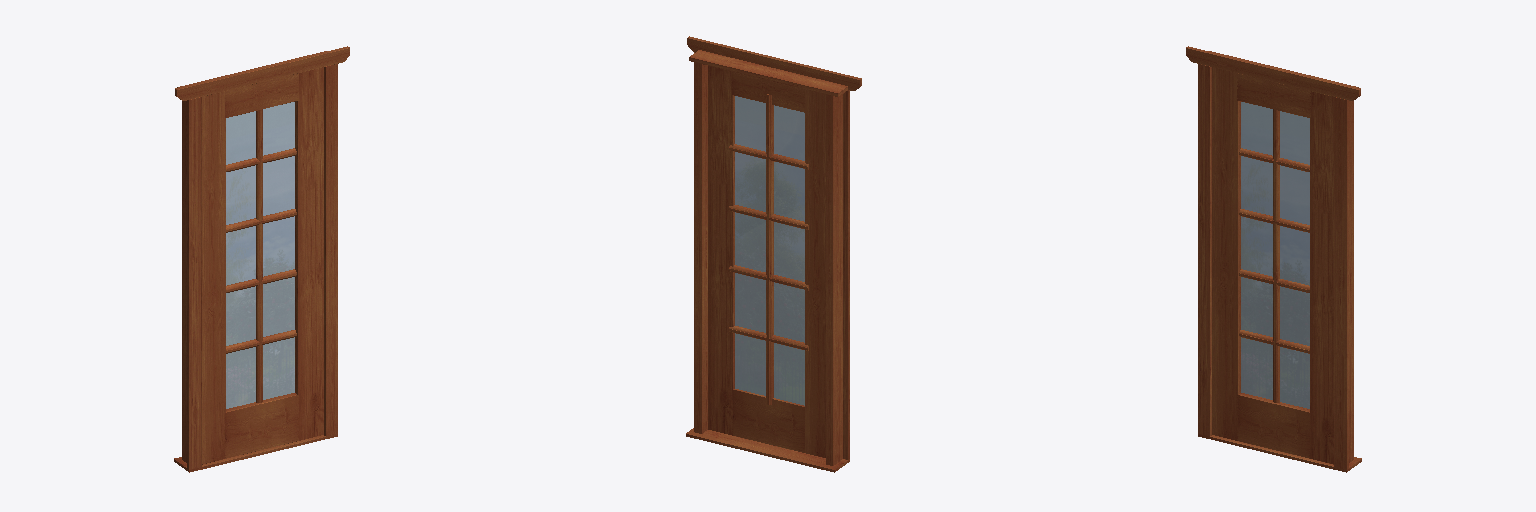
3 renders of one model, left to right at view 1: azimuth 30°, elevation 25°; view 2: azimuth 150°, elevation 25°; view 3: azimuth 330°, elevation 25°, orthographic.
Parts seen in each view (by area): view 1: glass, door_right, door_left, trim_left, trim_right, door_bottom, trim_top, door_top, muttin001, box_left, threshold; view 2: glass, door_right, door_left, box_left, box_right, door_bottom, trim_left, muttin001, box_top, trim_top, threshold, door_top (+4 smaller); view 3: glass, door_left, door_right, trim_right, trim_left, door_bottom, trim_top, door_top, muttin001, box_right, threshold.
Boxes of the visible parts, box(x1,y1,x2,y2) form: glass: box(226, 102, 294, 408); door_right: box(295, 67, 323, 440); door_left: box(202, 91, 225, 464); trim_left: box(187, 97, 201, 469); trim_right: box(324, 64, 337, 436); door_bottom: box(225, 393, 298, 458); trim_top: box(175, 46, 349, 100); door_top: box(225, 73, 298, 117); muttin001: box(256, 109, 262, 402); box_left: box(182, 101, 186, 462); threshold: box(174, 434, 337, 472); glass: box(735, 96, 804, 405); door_right: box(708, 66, 734, 435); door_left: box(805, 89, 825, 457); box_left: box(826, 94, 842, 465); box_right: box(694, 62, 707, 433); door_bottom: box(732, 389, 804, 452); trim_left: box(843, 90, 849, 459); muttin001: box(766, 94, 773, 404); box_top: box(689, 50, 847, 96); trim_top: box(687, 36, 861, 90); threshold: box(686, 428, 849, 472); door_top: box(732, 72, 804, 112); glass: box(1241, 102, 1309, 408); door_left: box(1212, 67, 1240, 440); door_right: box(1310, 91, 1333, 464); trim_right: box(1334, 97, 1348, 469); trim_left: box(1198, 64, 1211, 436); door_bottom: box(1237, 393, 1310, 458); trim_top: box(1186, 46, 1360, 100); door_top: box(1237, 73, 1310, 117); muttin001: box(1273, 109, 1279, 402); box_right: box(1349, 101, 1353, 462); threshold: box(1198, 434, 1361, 472).
Bounding box in the file's own units: 35.12 × 74.75 × 5.5.
Materials: 8 (8 with a texture image).